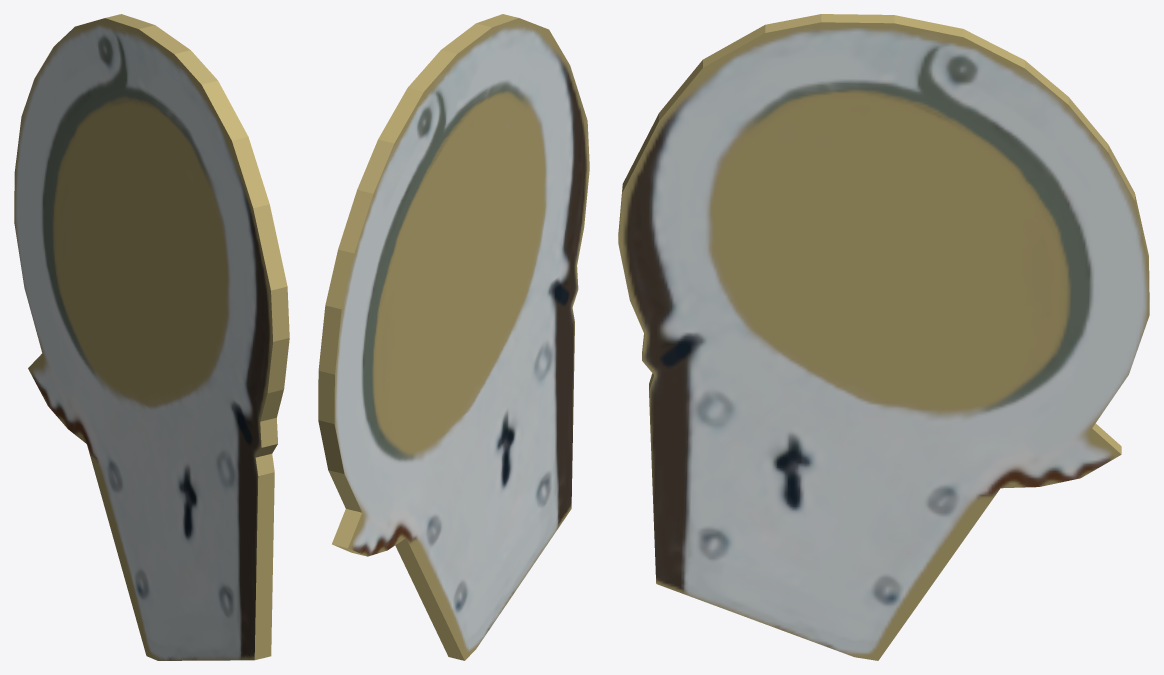
File: Handcuffs_head.fbx
3 renders of one model, left to right at view 1: azimuth 30°, elevation 25°; view 2: azimuth 150°, elevation 25°; view 3: azimuth 270°, elevation 25°, orthographic. The views are drawn at different scales.
Visible parts, largest first — view 1: Handcuffs_head; view 2: Handcuffs_head; view 3: Handcuffs_head.
Boxes of the visible parts, x1,y1,x2,y2 form: Handcuffs_head: [14, 14, 289, 660]; Handcuffs_head: [318, 14, 589, 660]; Handcuffs_head: [618, 14, 1149, 660].
Size of the model in its own units: 1.46 by 52.35 by 39.48.
